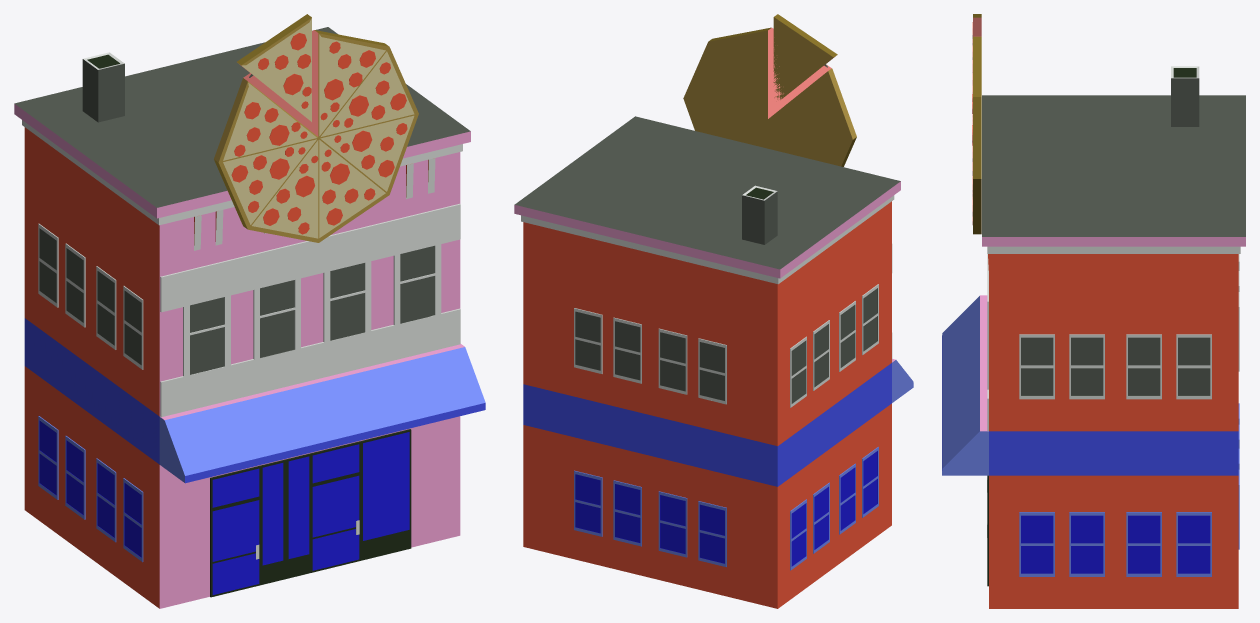
Rendered from PizzaPasta.fbx.
The picture shows the model from 3 angles, left to right: view 1: azimuth 30°, elevation 25°; view 2: azimuth 150°, elevation 25°; view 3: azimuth 270°, elevation 25°; orthographic projection. The views are drawn at different scales.
Visible parts, largest first — view 1: PizzaPasta -col; view 2: PizzaPasta -col; view 3: PizzaPasta -col.
Part boxes in pixels (<box>): PizzaPasta -col: <box>14,14,485,608</box>; PizzaPasta -col: <box>514,14,913,608</box>; PizzaPasta -col: <box>942,14,1245,608</box>.
Bounding box in the file's own units: 1880 × 3220 × 1703.
